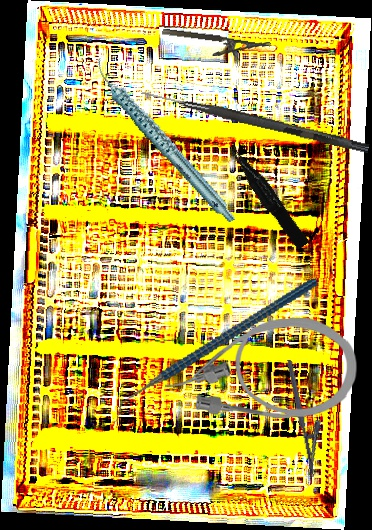Cannula: (164, 317, 358, 420)
Chopper: (92, 278, 338, 423)
Handpiece: (92, 37, 236, 244)
Hook Surgical: (139, 88, 371, 154)
Needle Holder: (286, 356, 331, 478), (160, 27, 271, 64)
Tissue Forceps: (227, 140, 310, 253)
